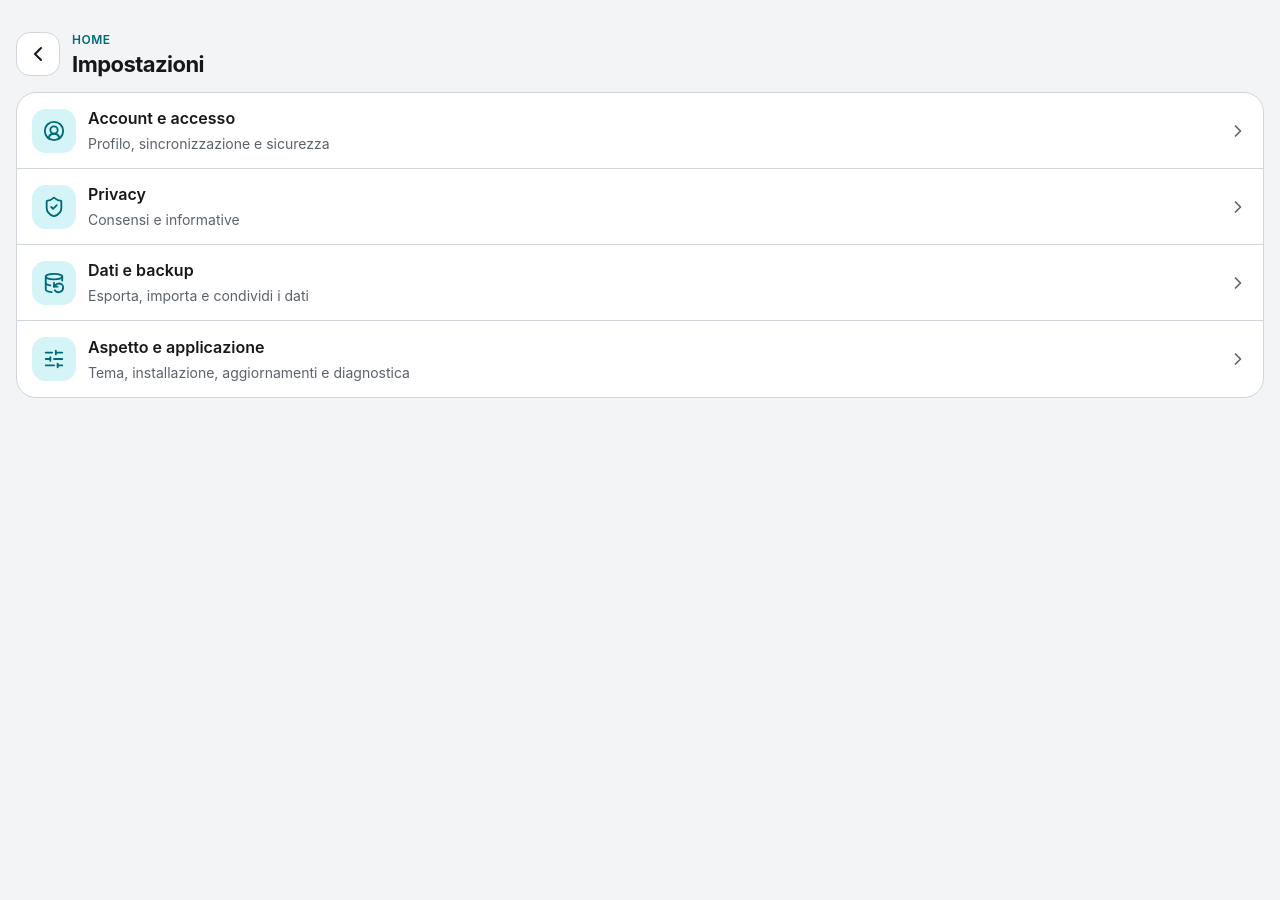
Test: SettingsView hierarchical navigation › opens the settings areas and preserves privacy/data content
Expected: the heading "Impostazioni" is shown, top-left (72, 51), bottom-right (204, 77)
Expected: the button "Account e accesso Profilo, sincronizzazione e sicurezza" is shown, top-left (17, 93), bottom-right (1263, 169)
Click the button "Privacy Consensi e informative": {"x": 54, "y": 206} top-left (17, 169), bottom-right (1263, 245)
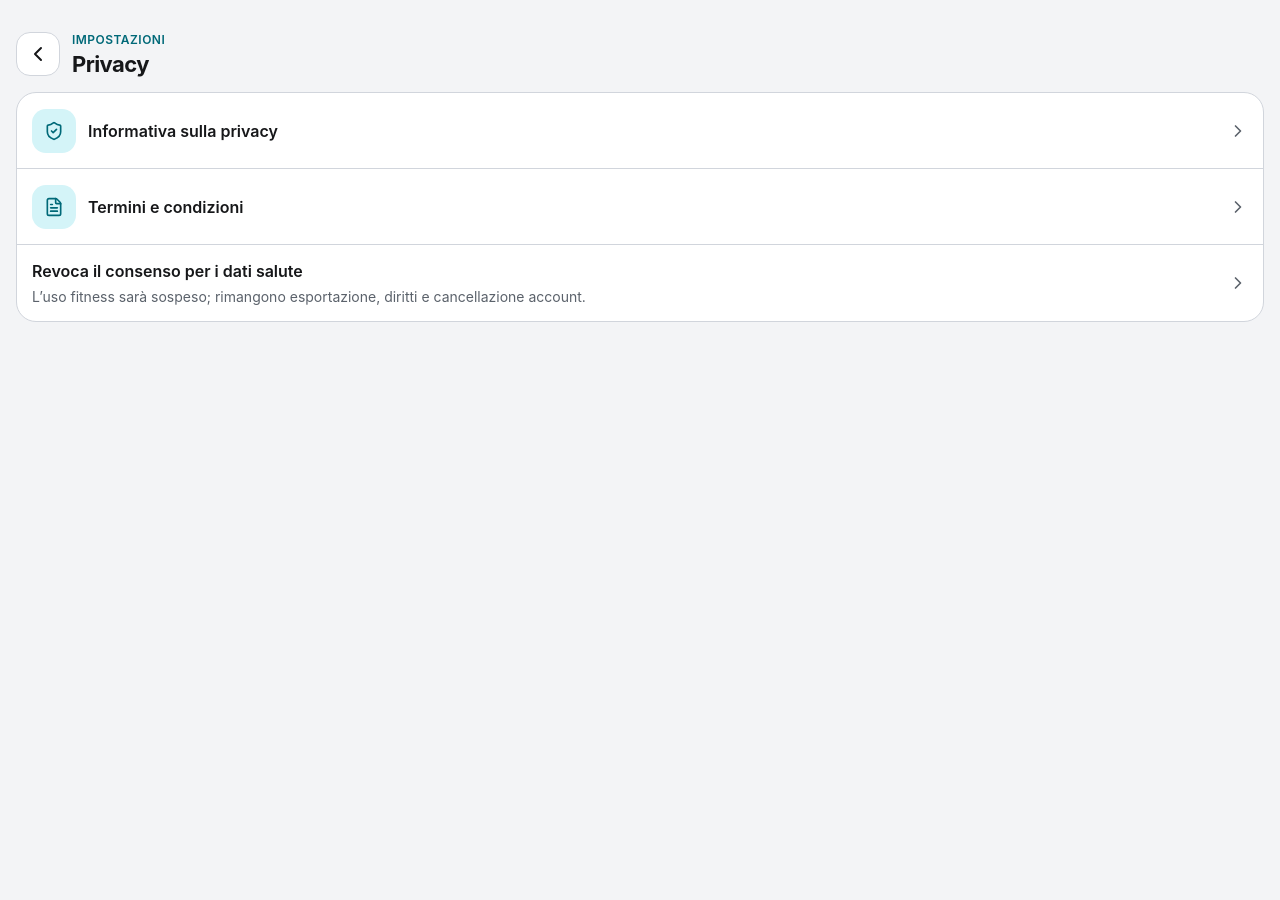
Expected: the heading "Privacy" is shown, top-left (72, 51), bottom-right (149, 77)
Expected: the button "Termini e condizioni" is shown, top-left (17, 169), bottom-right (1263, 245)
Expected: the button "Informativa sulla privacy" is shown, top-left (17, 93), bottom-right (1263, 169)
Click the button named "Torna alle impostazioni": {"x": 38, "y": 54} top-left (16, 32), bottom-right (60, 76)
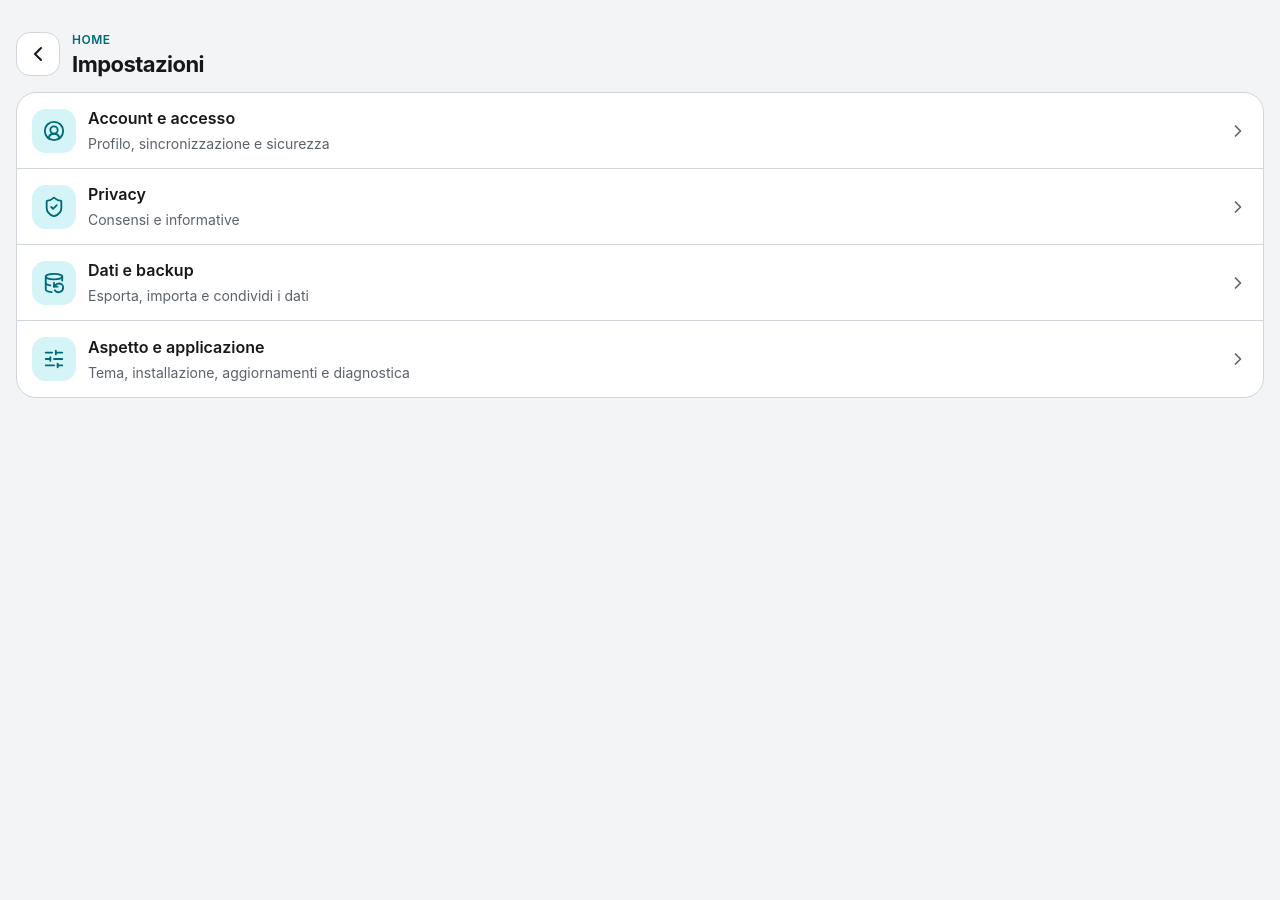
Click the button "Dati e backup Esporta, importa e condividi i dati": {"x": 54, "y": 282} top-left (17, 245), bottom-right (1263, 321)
(page scrolled)
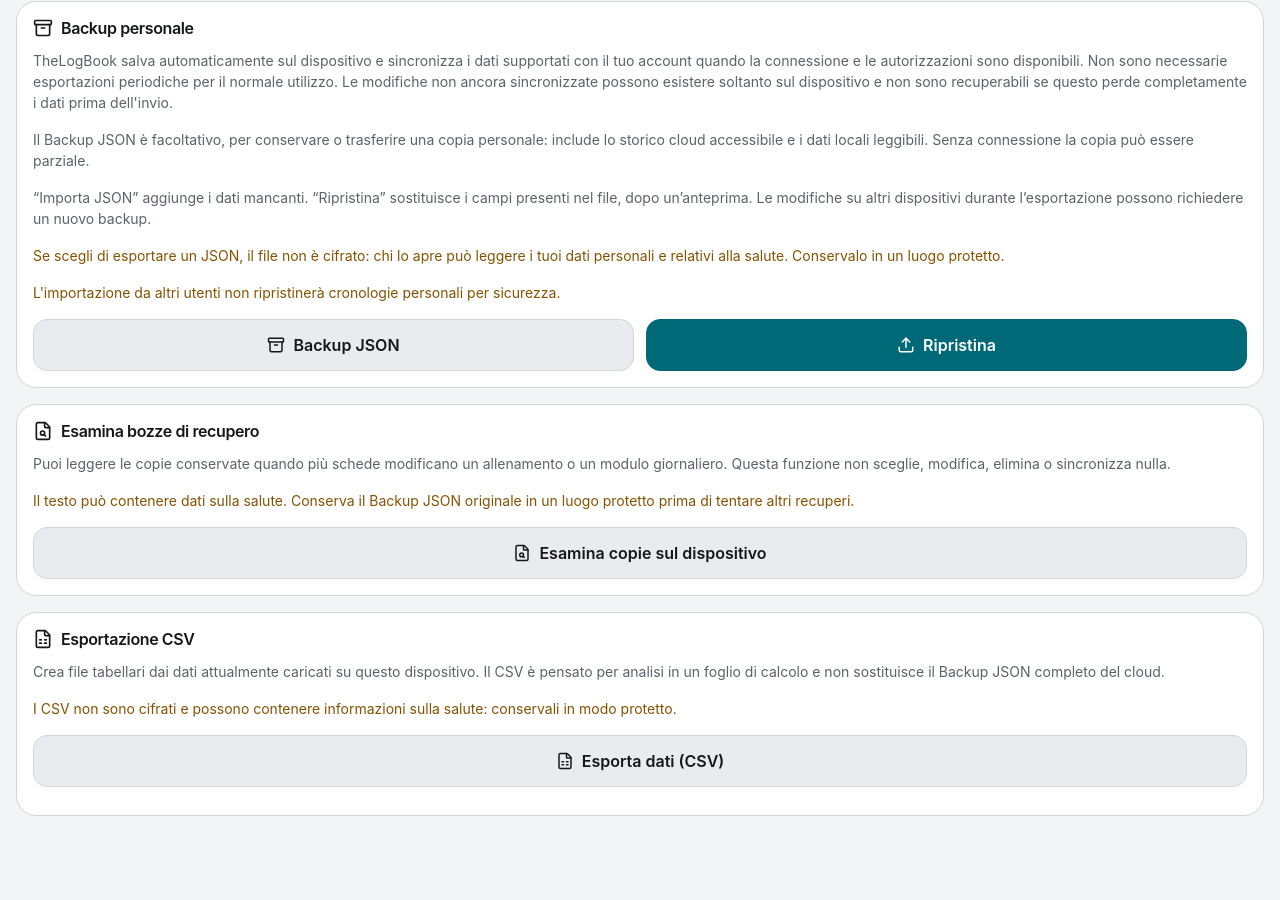
Expected: the button "Backup JSON" is shown, top-left (33, 319), bottom-right (634, 371)
Expected: the button "Esporta dati (CSV)" is shown, top-left (33, 735), bottom-right (1247, 787)
